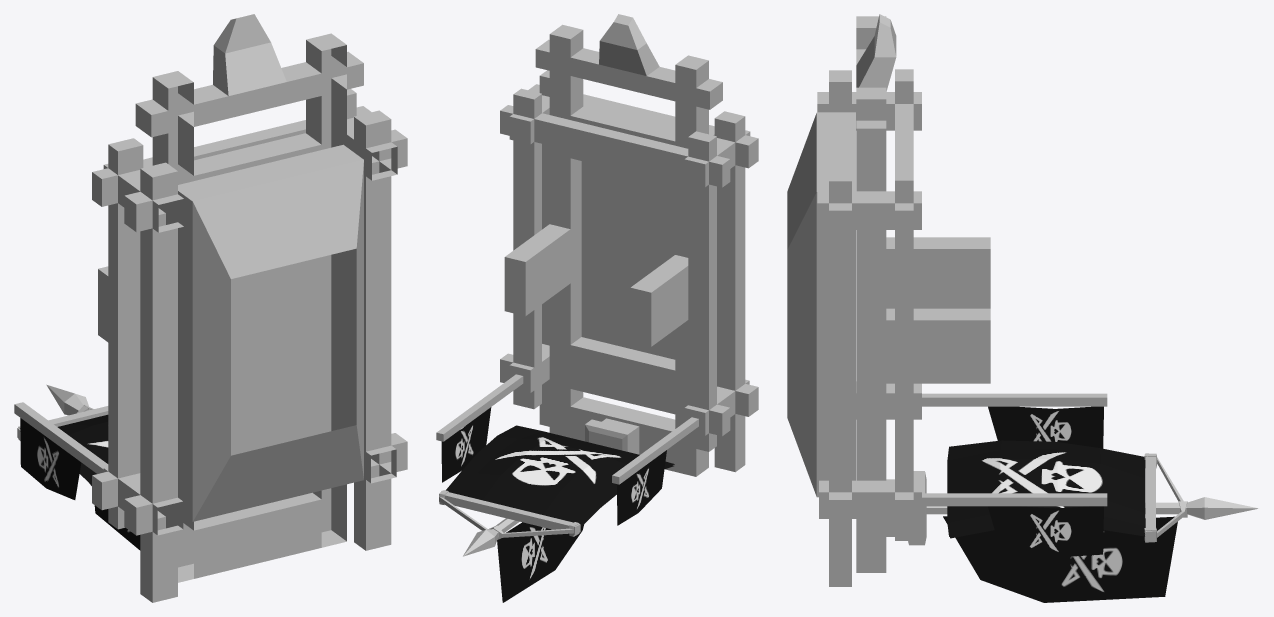
Rendered from pirate_cannon_my_ship_6.fbx.
3 views of the same model, side by side, from view 1: azimuth 30°, elevation 25°; view 2: azimuth 150°, elevation 25°; view 3: azimuth 270°, elevation 25° (orthographic). The views are drawn at different scales.
Parts seen in each view (by area): view 1: Cube.275; view 2: Cube.275; view 3: Cube.275.
Part boxes in pixels (bbox=[...]): Cube.275: bbox=[14, 14, 407, 602]; Cube.275: bbox=[436, 14, 758, 602]; Cube.275: bbox=[787, 14, 1258, 602].
Bounding box in the file's own units: 278 × 601 × 440.
